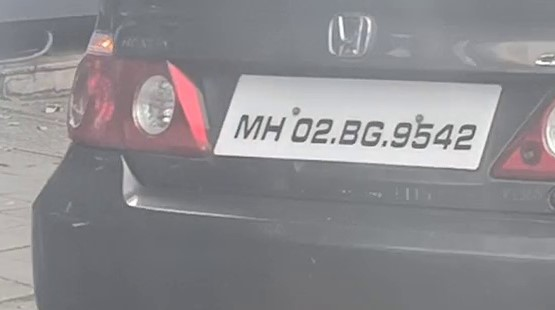MH02BG9542: (213, 74, 503, 170)
